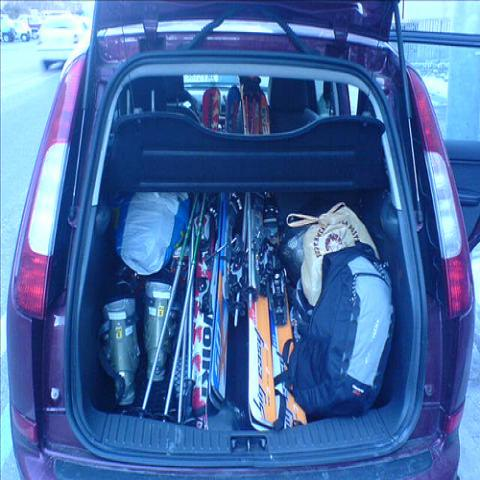car: (4, 2, 473, 473), (35, 14, 92, 74), (16, 15, 43, 39), (10, 19, 33, 42), (0, 14, 16, 43)
